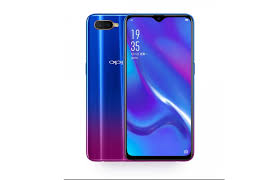oppo: (85, 8, 197, 163)
